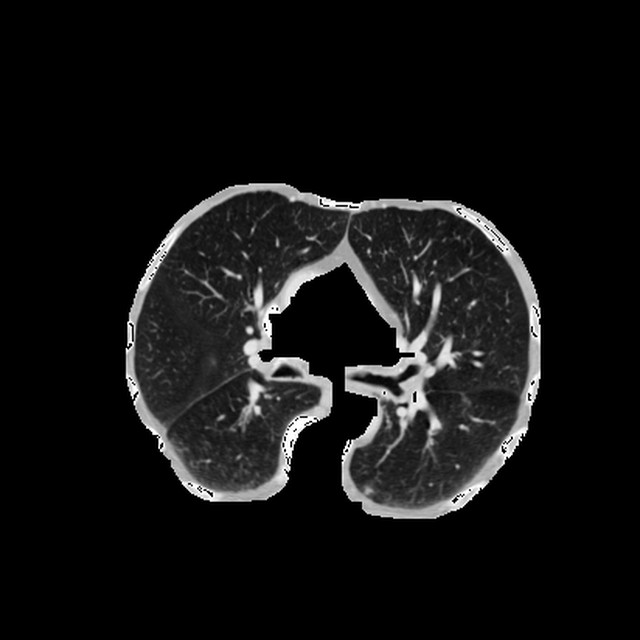PN: (365, 486, 371, 492)
